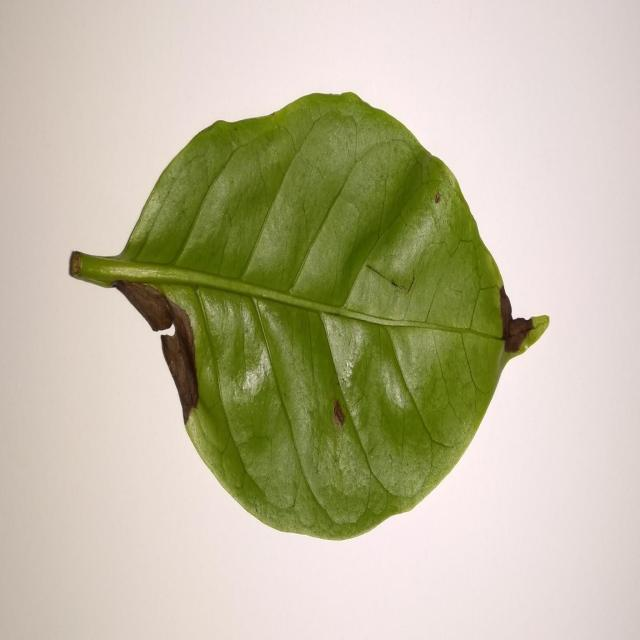Enfermedad-Antracnosis: (66, 92, 551, 544)
